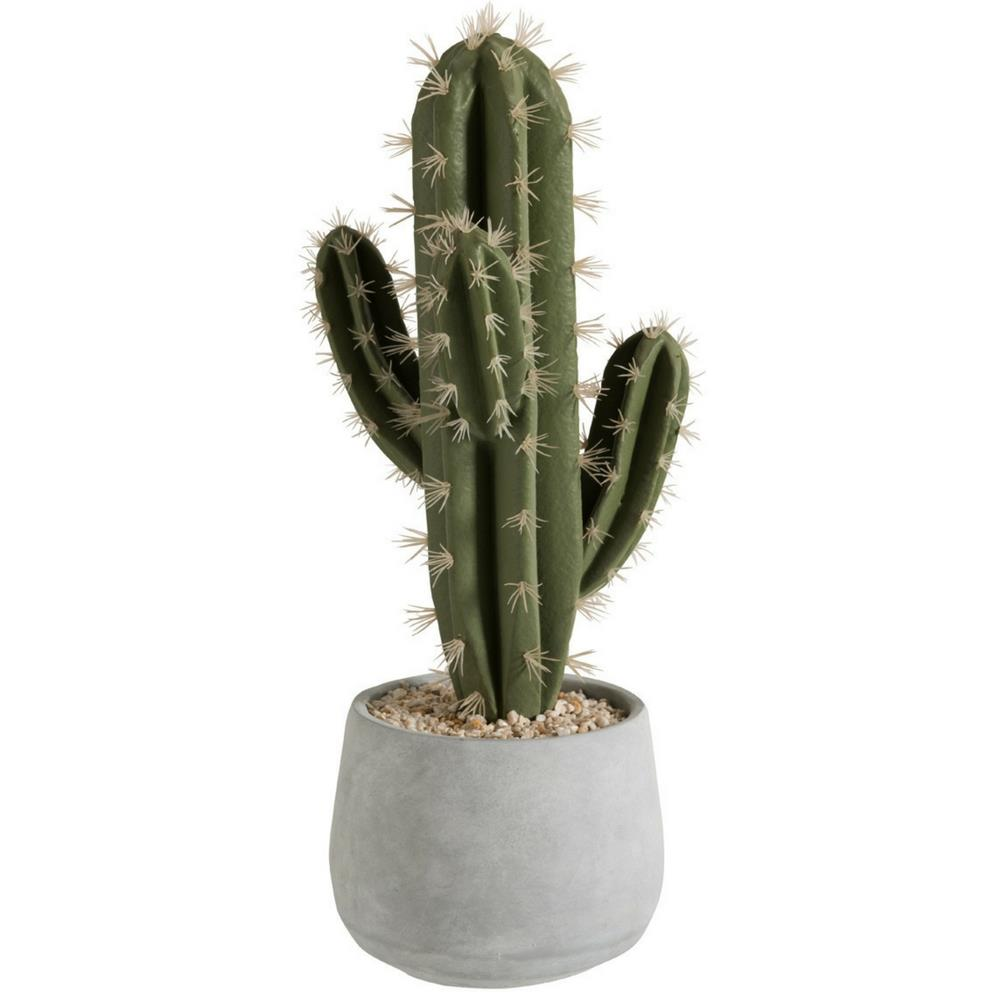plant: (300, 13, 696, 987)
